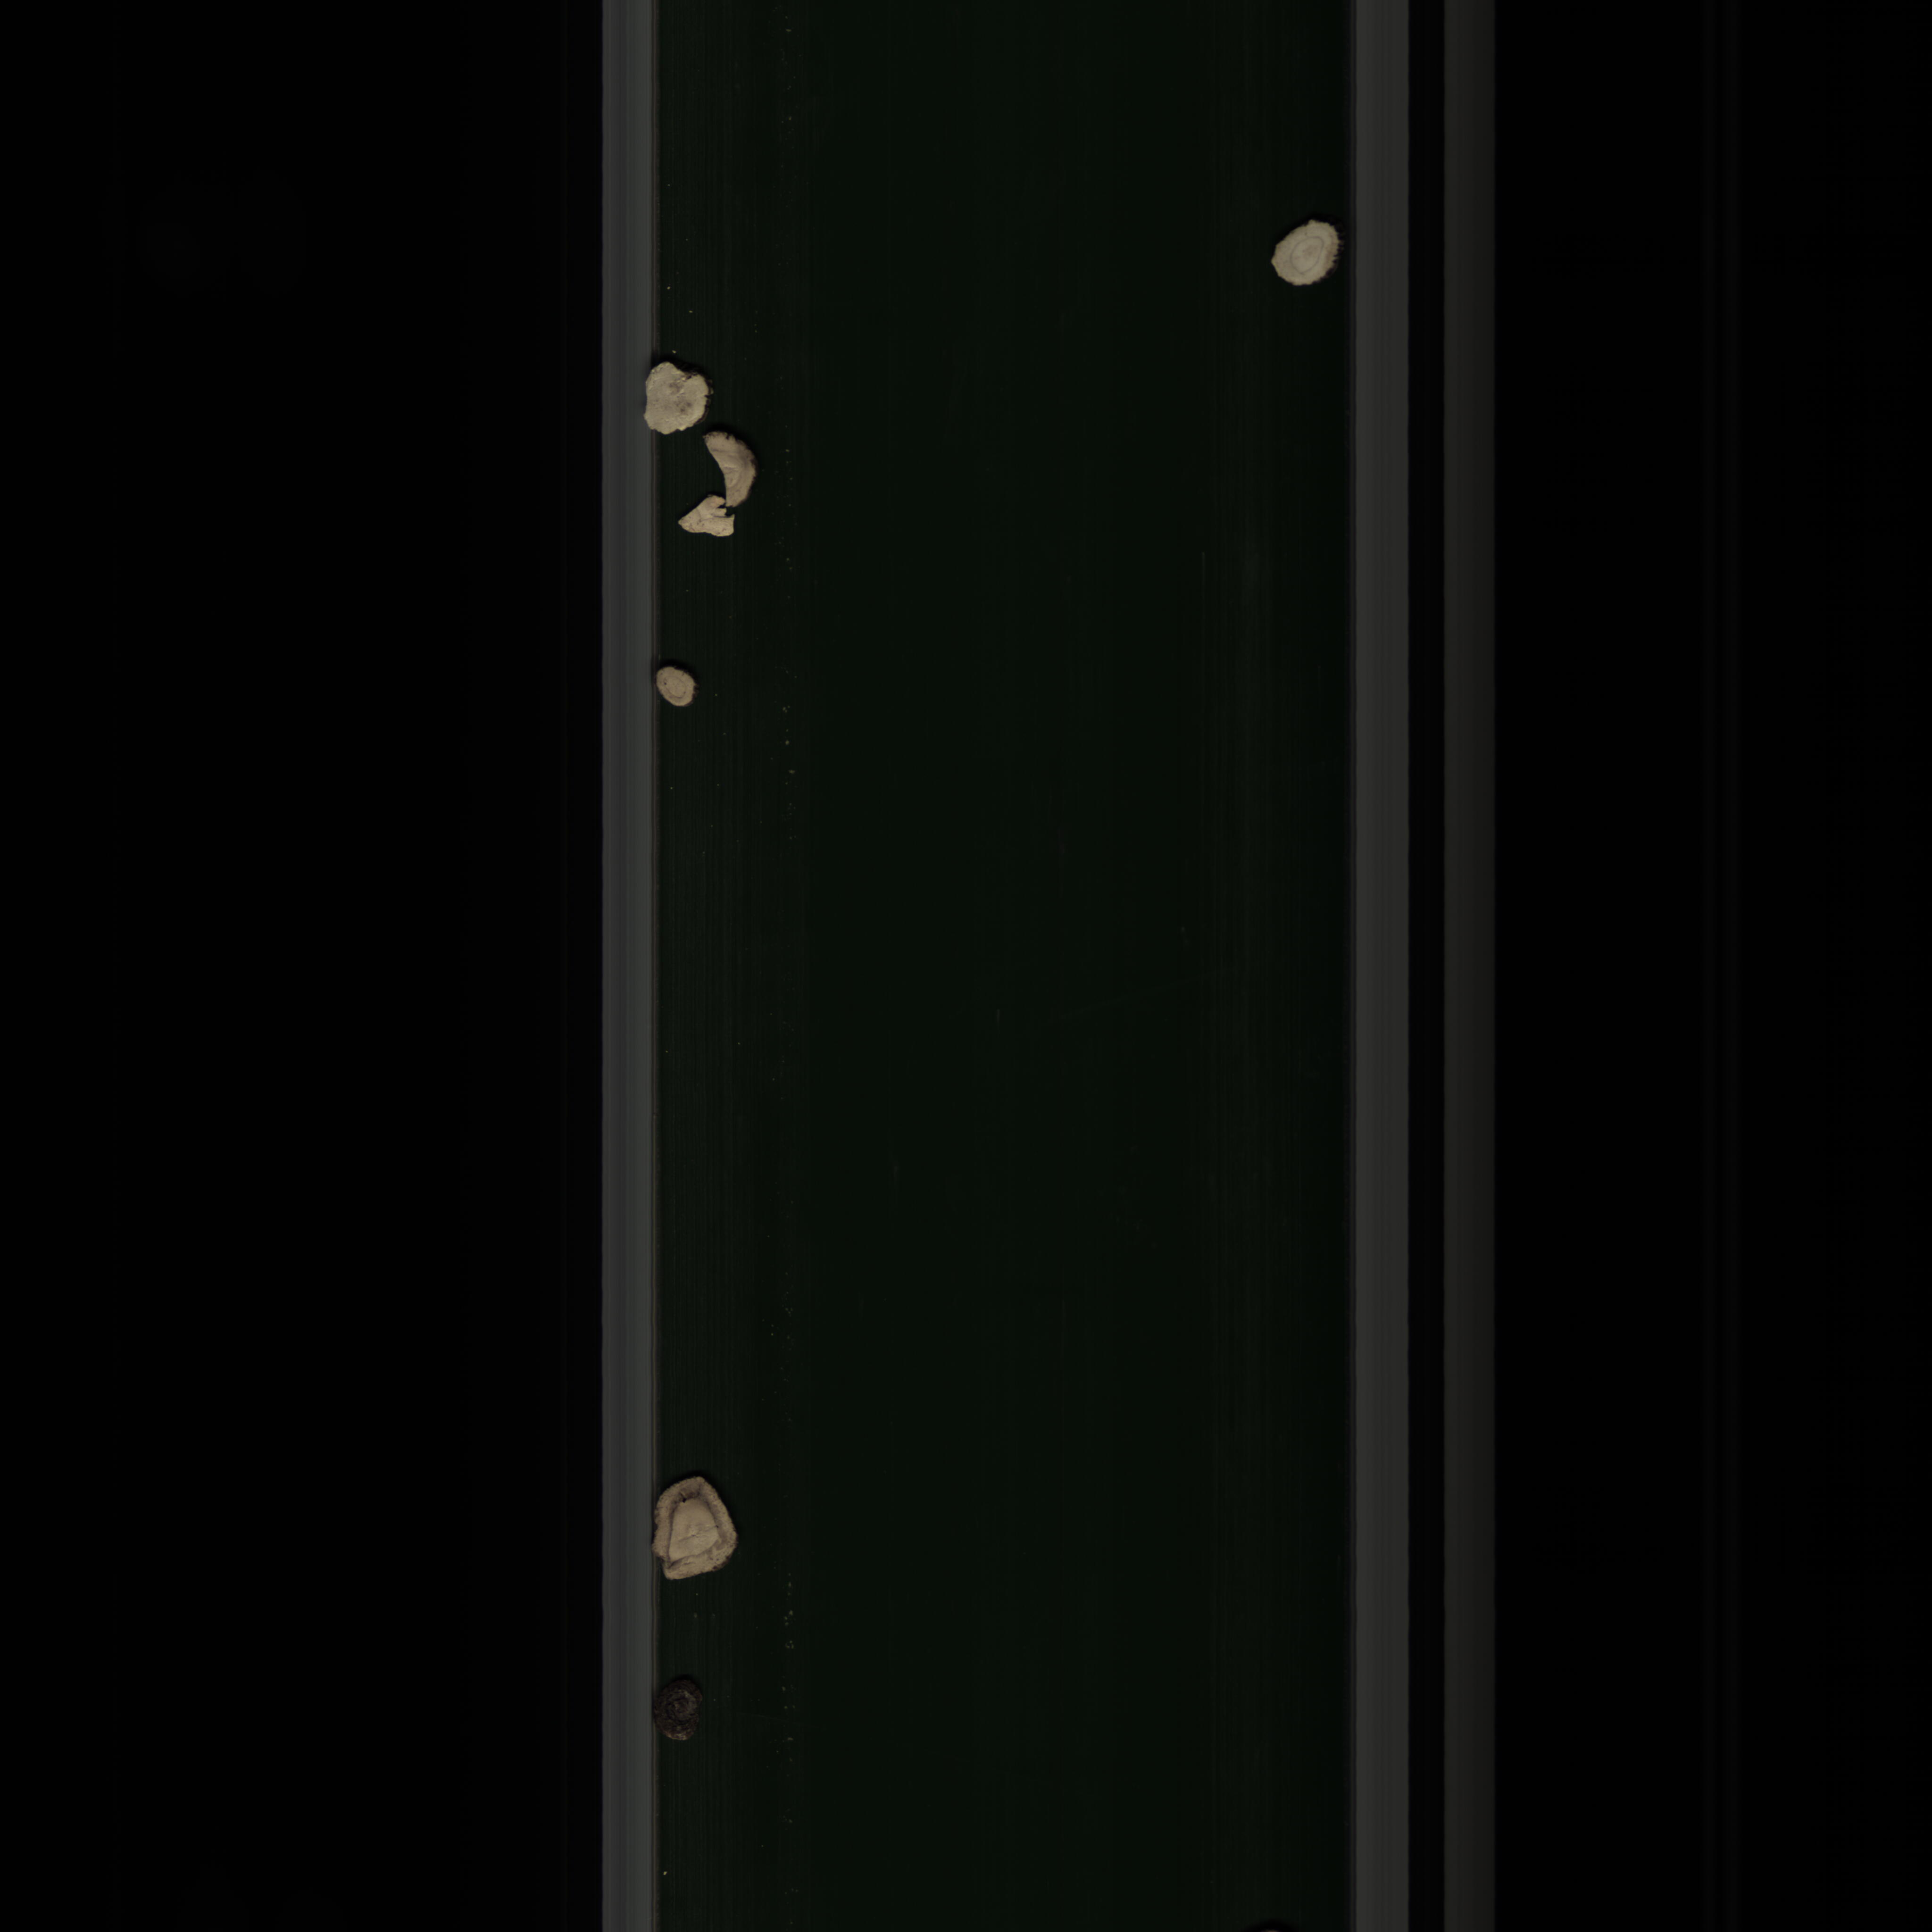bark: (644, 1674, 727, 1750)
debris: (704, 428, 771, 513), (640, 363, 715, 439), (672, 495, 743, 556)
moldy: (640, 1465, 754, 1589)
